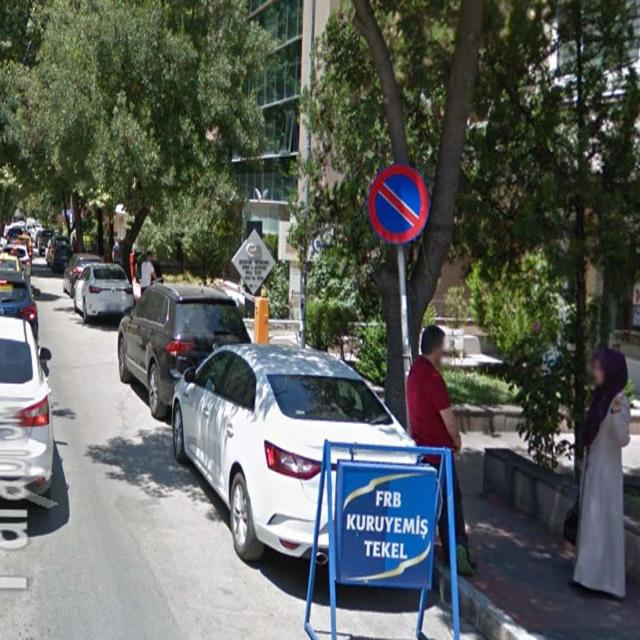parkyasak: (369, 166, 427, 248)
